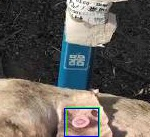text: (66, 107, 99, 137)
